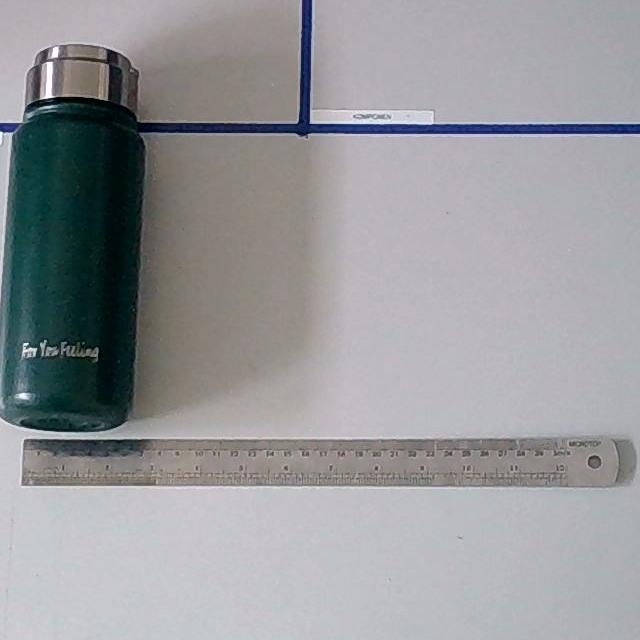bottle: (0, 40, 155, 435)
ruler: (18, 435, 627, 492)
